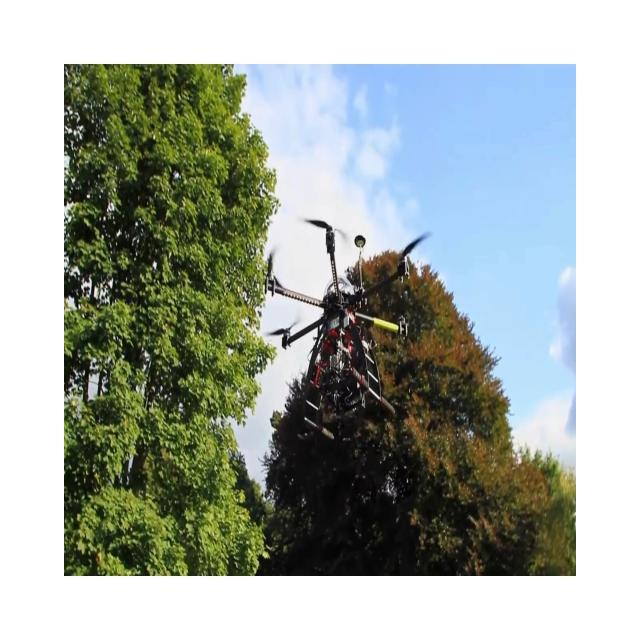drone: (262, 216, 432, 440)
